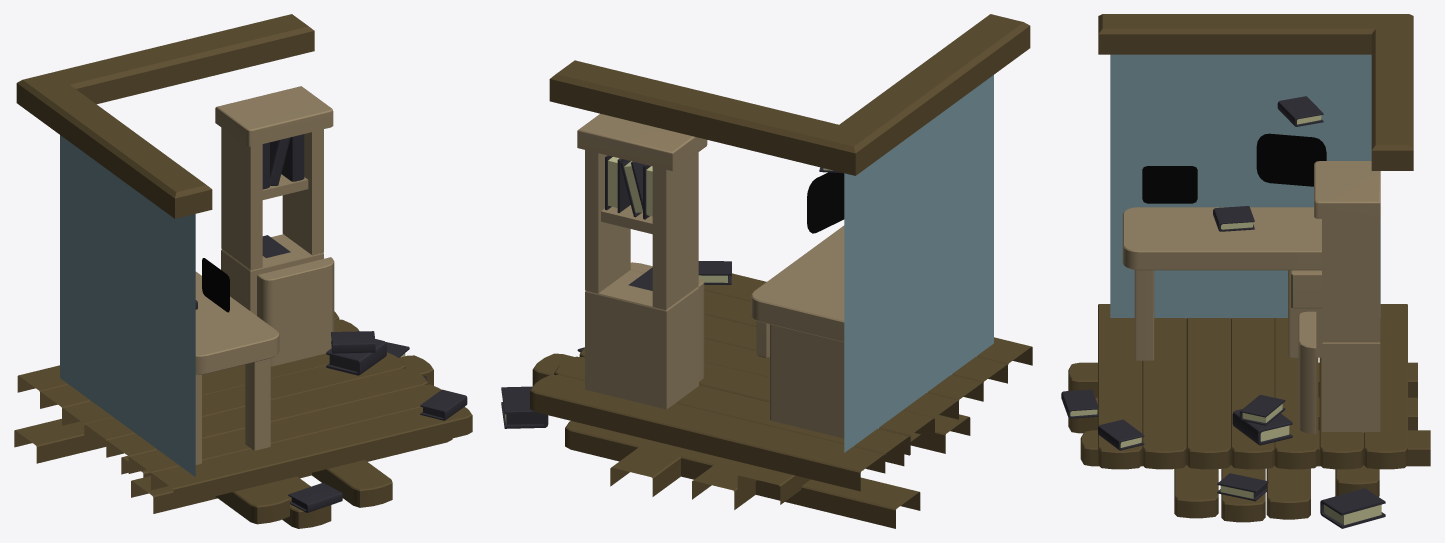
File: Final project UV.fbx
The picture shows the model from 3 angles, left to right: view 1: azimuth 30°, elevation 25°; view 2: azimuth 150°, elevation 25°; view 3: azimuth 270°, elevation 25°; orthographic projection. The views are drawn at different scales.
Parts seen in each view (by area): view 1: polySurface10, polySurface2, Board_1, pCube81, Board_8, pCube135, Board_10, pCube7, pCube5, Board_9, pCube3, Board_11 (+18 smaller); view 2: polySurface10, polySurface2, Board_12, pCube2, Board_15, pCube8, pCube7, pCube135, pCube5, Board_13, pCube3, Board_11 (+16 smaller); view 3: polySurface10, polySurface2, pCube7, pCube3, Board_10, Board_8, Board_1, pCube2, Board_12, Board_9, pCube5, Board_11 (+22 smaller).
Part boxes in pixels (x1,y1,x2,y2): polySurface10: [60, 135, 195, 476]; polySurface2: [16, 14, 314, 218]; Board_1: [151, 406, 472, 506]; pCube81: [257, 257, 334, 366]; Board_8: [128, 384, 441, 490]; pCube135: [221, 127, 262, 269]; Board_10: [106, 368, 427, 457]; pCube7: [195, 271, 279, 374]; pCube5: [215, 86, 333, 146]; Board_9: [84, 352, 405, 457]; pCube3: [282, 129, 323, 255]; Board_11: [62, 353, 329, 441]; polySurface10: [844, 75, 993, 452]; polySurface2: [549, 14, 1030, 175]; Board_12: [530, 374, 884, 491]; pCube2: [585, 270, 698, 409]; Board_15: [565, 421, 920, 528]; pCube8: [770, 324, 844, 438]; pCube7: [751, 225, 844, 342]; pCube135: [652, 152, 698, 309]; pCube5: [577, 113, 707, 170]; Board_13: [554, 356, 909, 473]; pCube3: [585, 150, 630, 293]; Board_11: [579, 347, 934, 454]; polySurface10: [1110, 54, 1380, 318]; polySurface2: [1098, 14, 1413, 170]; pCube7: [1122, 207, 1321, 270]; pCube3: [1322, 219, 1380, 342]; Board_10: [1186, 318, 1230, 469]; Board_8: [1142, 318, 1186, 469]; Board_1: [1098, 304, 1142, 469]; pCube2: [1322, 342, 1380, 432]; Board_12: [1364, 304, 1407, 469]; Board_9: [1231, 318, 1274, 469]; pCube5: [1314, 161, 1380, 218]; Board_11: [1274, 318, 1318, 469].
Size of the model in its own units: 11.61 by 10.37 by 9.9.
